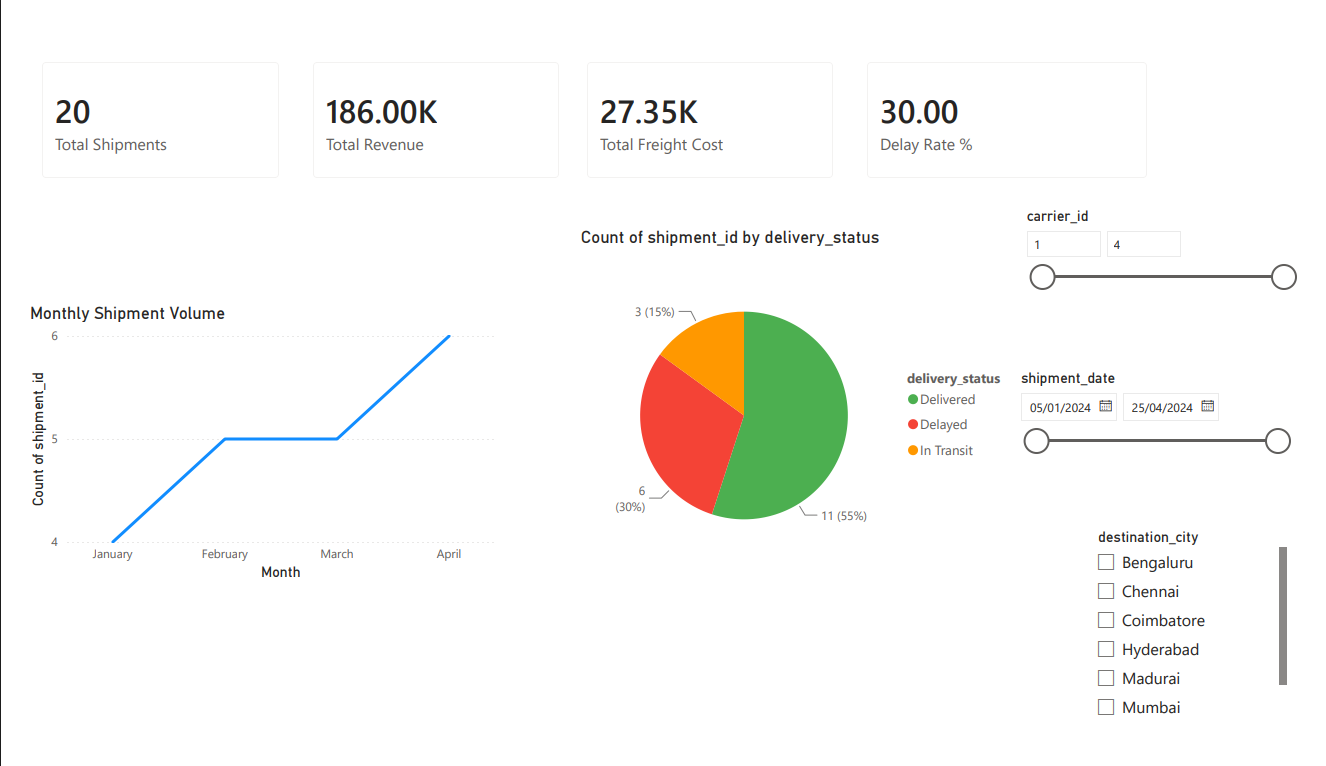

Layout of this report page (visuals, bound fields, positions):
{"tool":"powerbi","page":{"name":"Overview","canvas":[1280,720],"ordinal":0},"visuals":[{"type":"cardVisual","fields":{"Data":["CountNonNull(logistics_db shipments.shipment_id)"]},"box":[0,21.3,271.4,150],"z":0},{"type":"cardVisual","fields":{"Data":["Sum(logistics_db shipment_items.total_price)"]},"box":[271.4,21.3,279.7,150],"z":1000},{"type":"cardVisual","fields":{"Data":["Sum(logistics_db shipments.freight_cost)"]},"box":[544.6,21.3,280.6,150],"z":2000},{"type":"lineChart","title":"Monthly Shipment Volume","fields":{"Category":["logistics_db shipments.shipment_date.Variation.Date Hierarchy.Year","logistics_db shipments.shipment_date.Variation.Date Hierarchy.Quarter","logistics_db shipments.shipment_date.Variation.Date Hierarchy.Month","logistics_db shipments.shipment_date.Variation.Date Hierarchy.Day"],"Y":["CountNonNull(logistics_db shipments.shipment_id)"]},"box":[0,279.4,474.5,281.5],"z":3000},{"type":"pieChart","fields":{"Category":["logistics_db shipments.delivery_status"],"Y":["CountNonNull(logistics_db shipments.shipment_id)"]},"box":[551.4,203.5,444.9,357.4],"z":4000},{"type":"slicer","fields":{"Values":["logistics_db shipments.shipment_date"]},"box":[982.7,340.8,290.8,159.3],"z":5000},{"type":"slicer","fields":{"Values":["logistics_db shipments.carrier_id"]},"box":[989.2,178.8,290.8,162.1],"z":6000},{"type":"slicer","fields":{"Values":["logistics_db shipments.destination_city"]},"box":[1059.6,500.1,207.5,206.5],"z":7000},{"type":"cardVisual","fields":{"Data":["logistics_db carriers.Delay Rate %"]},"box":[825.2,21.3,314,150],"z":8000}]}

Visuals, with their boxes in screenshot pixels (x1, y1, x2, y2), scaled from the page's 1280x720 canvas onto the 1326x766 screenshot:
cardVisual - CountNonNull(logistics_db shipments.shipment_id): [0,23,281,182]
cardVisual - Sum(logistics_db shipment_items.total_price): [281,23,571,182]
cardVisual - Sum(logistics_db shipments.freight_cost): [564,23,855,182]
"Monthly Shipment Volume" lineChart: [0,297,492,597]
pieChart - logistics_db shipments.delivery_status x CountNonNull(logistics_db shipments.shipment_id): [571,217,1032,597]
slicer - logistics_db shipments.shipment_date: [1018,363,1319,532]
slicer - logistics_db shipments.carrier_id: [1025,190,1325,363]
slicer - logistics_db shipments.destination_city: [1098,532,1313,752]
cardVisual - logistics_db carriers.Delay Rate %: [855,23,1180,182]
